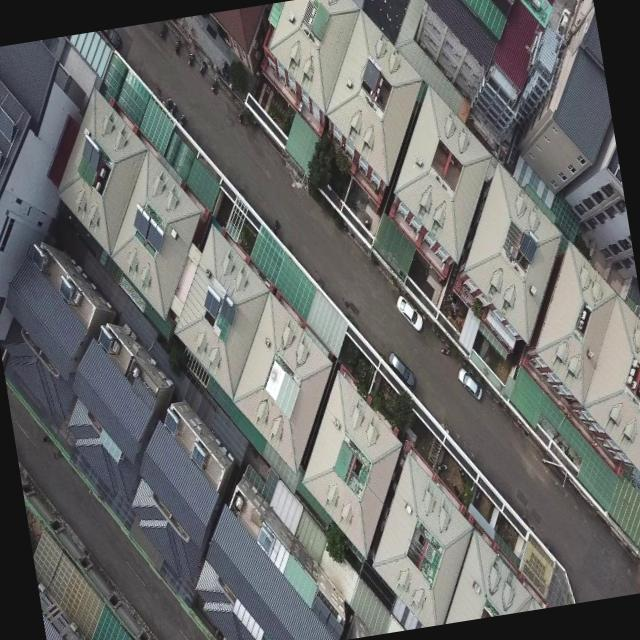car: (388, 347, 418, 392), (394, 290, 424, 334), (458, 365, 483, 404)
